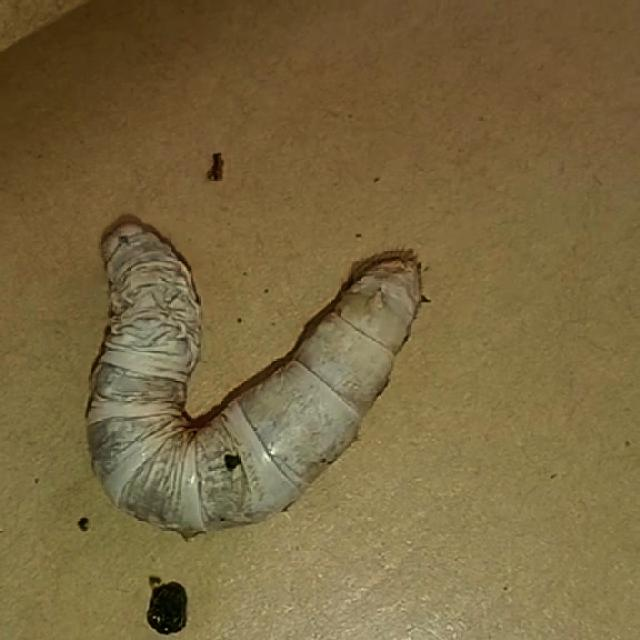Grasserie: (56, 190, 438, 542)
